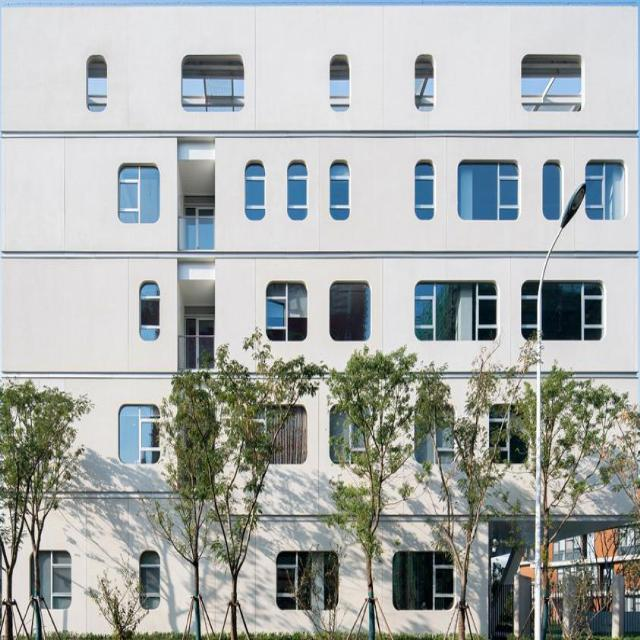plant: (325, 342, 539, 633), (148, 322, 326, 634), (508, 361, 639, 634), (2, 375, 98, 632), (561, 561, 599, 639)
wall: (2, 6, 639, 634)
windows: (520, 277, 607, 338), (413, 278, 499, 338), (392, 547, 455, 608), (458, 155, 519, 217), (276, 550, 341, 607), (264, 275, 308, 337), (116, 160, 160, 221), (328, 278, 372, 338), (117, 401, 160, 462), (585, 155, 626, 218), (488, 402, 530, 462), (30, 547, 71, 606), (179, 80, 244, 112), (523, 73, 582, 100), (138, 279, 160, 338), (178, 214, 214, 250), (286, 160, 308, 217), (138, 550, 160, 607), (414, 156, 434, 218), (542, 156, 562, 214), (246, 161, 266, 217), (332, 161, 351, 217), (180, 334, 216, 363), (415, 74, 434, 101), (90, 81, 108, 108), (329, 75, 349, 99)
